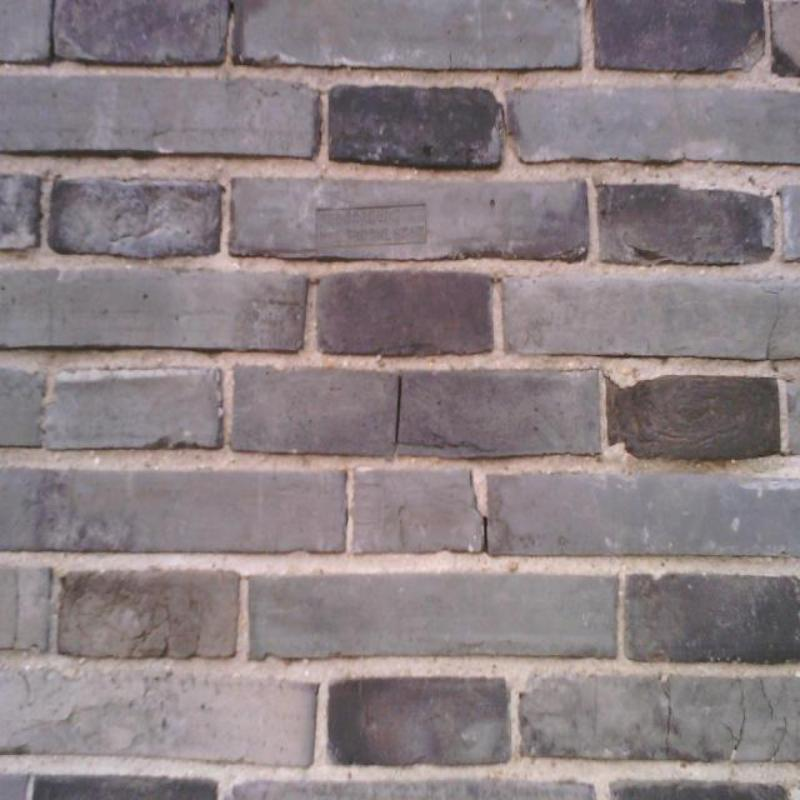crack: (720, 684, 746, 761), (764, 717, 787, 762), (765, 300, 780, 360), (660, 681, 671, 752), (760, 679, 773, 720), (395, 375, 402, 444), (50, 0, 55, 56), (482, 516, 488, 552)
